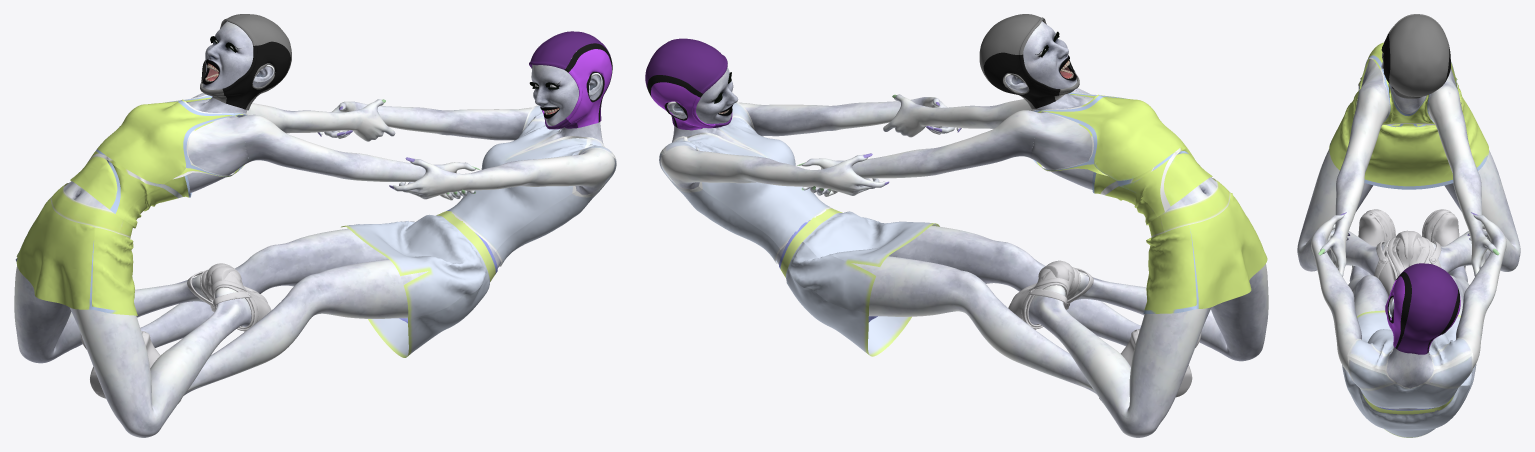
The model's file is Avatar_NB.glb.
3 views of the same model, side by side, from view 1: azimuth 30°, elevation 25°; view 2: azimuth 150°, elevation 25°; view 3: azimuth 270°, elevation 25° (orthographic). The views are drawn at different scales.
Visible parts, largest first — view 1: Genesis9, Garment_NB_1, Garment_NB_2btm, Garment_NB_2top, Hood, Hood2; view 2: Genesis9, Garment_NB_1, Garment_NB_2btm, Garment_NB_2top, Hood, Hood2; view 3: Genesis9, Garment_NB_1, Garment_NB_2top, Hood, Hood2, Garment_NB_2btm.
Part boxes in pixels (x1,y1,x2,y2): Genesis9: (14,21,614,437); Garment_NB_1: (15,94,248,315); Garment_NB_2btm: (341,209,497,357); Garment_NB_2top: (449,105,616,266); Hood: (201,31,612,129); Hood2: (200,14,291,110); Genesis9: (661,21,1268,437); Garment_NB_1: (1031,91,1267,313); Garment_NB_2btm: (779,208,939,356); Garment_NB_2top: (659,102,831,263); Hood: (645,38,1074,130); Hood2: (979,14,1079,109); Genesis9: (1297,59,1520,411); Garment_NB_1: (1329,42,1488,189); Garment_NB_2top: (1347,329,1473,408); Hood: (1381,33,1460,354); Hood2: (1382,14,1449,98); Garment_NB_2btm: (1342,310,1476,437).
Bounding box in the file's own units: 168 × 102 × 59.09.
19 materials, 15 textured.
